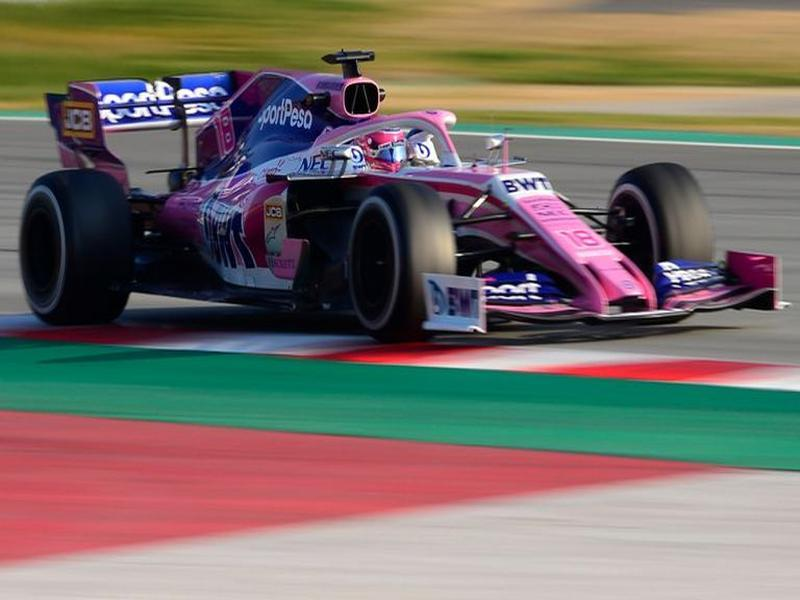f1: (26, 48, 789, 351)
